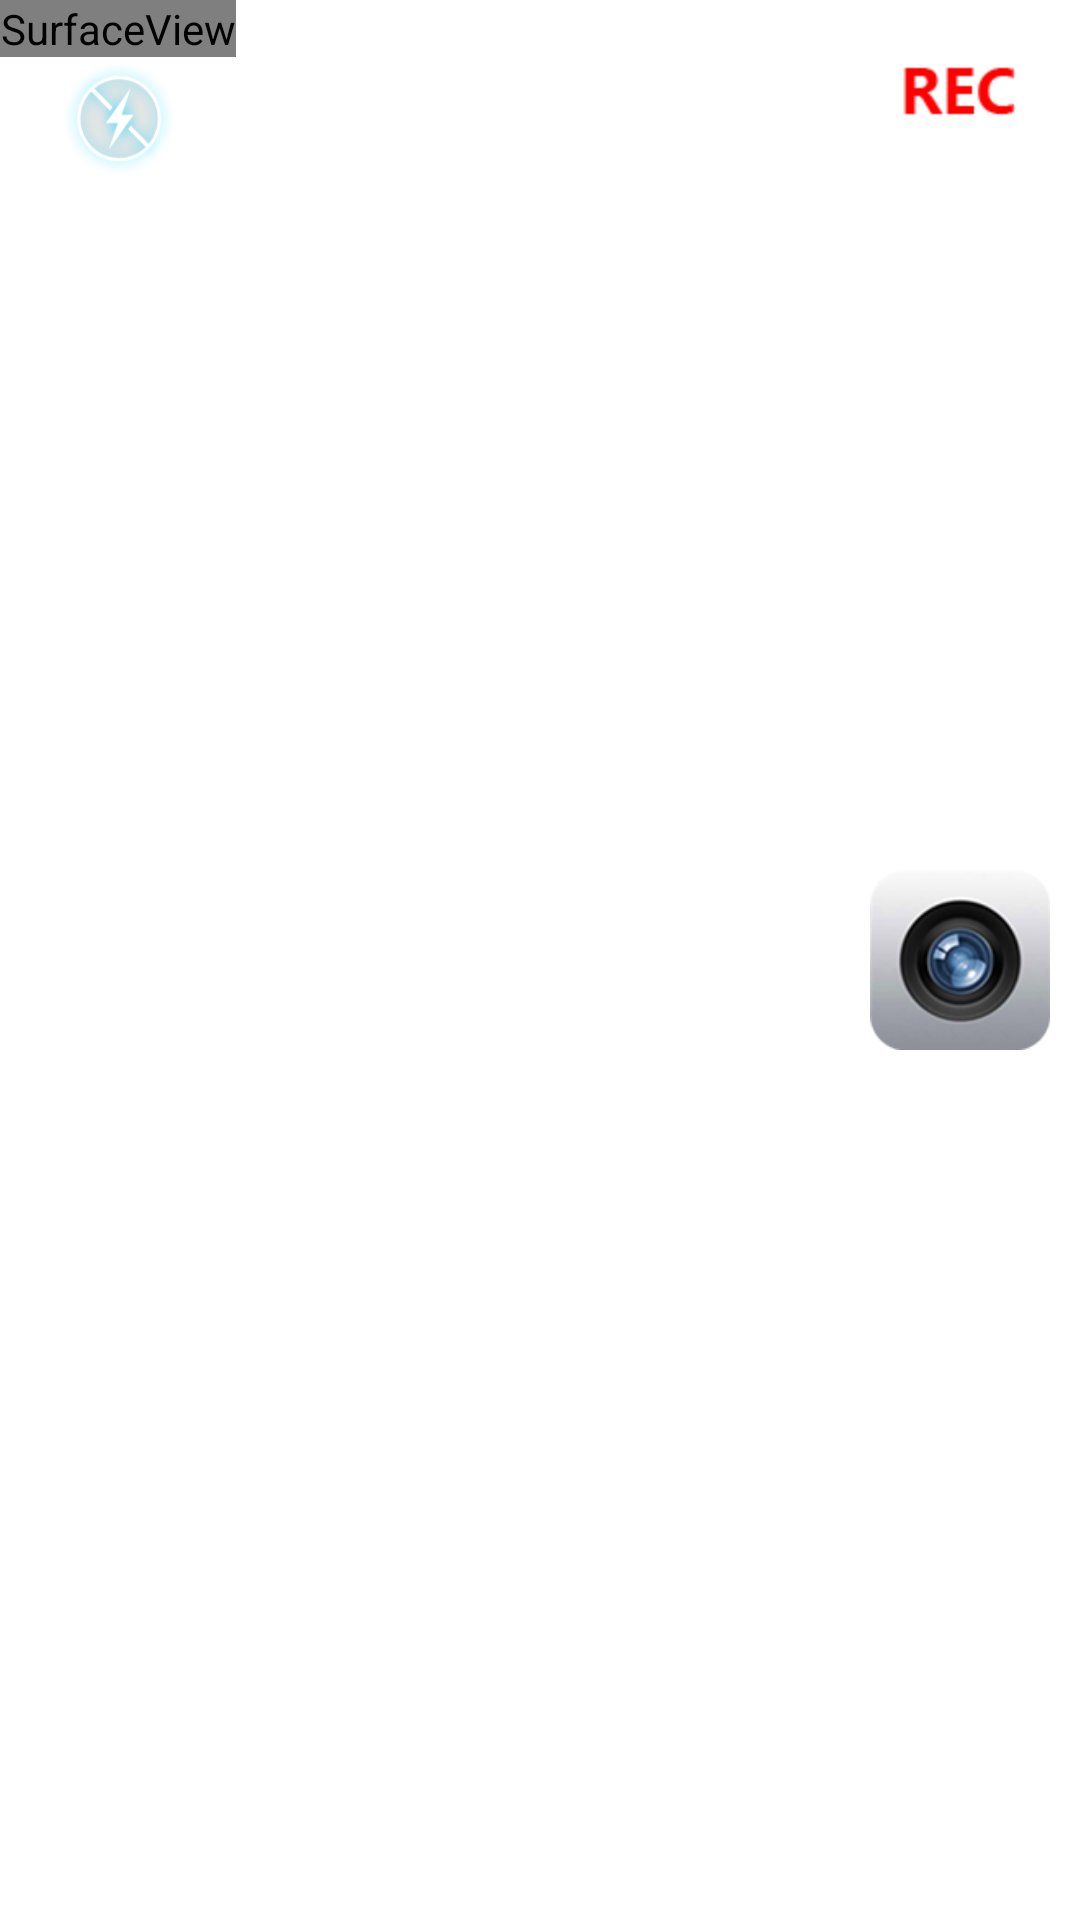

Screen size 1080w x 1920h. Icon name, then its center in pixels as (x,y):
camera: (960,974)
no flash: (119,119)
